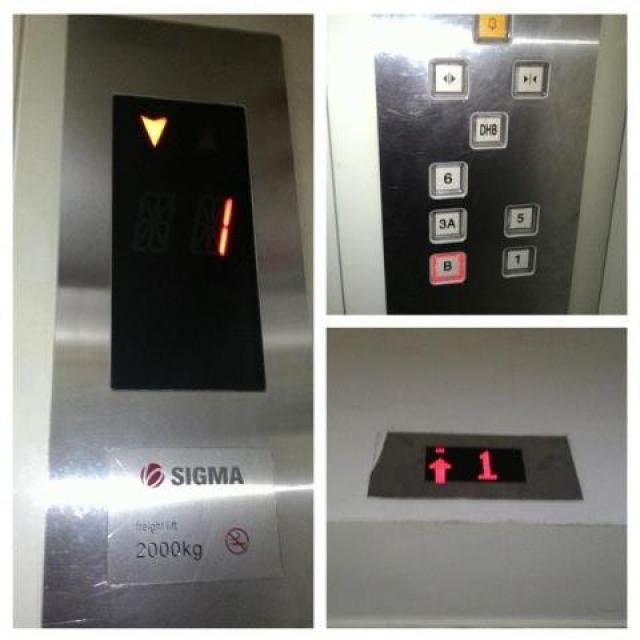1: (501, 244, 535, 277)
3A: (427, 204, 464, 243)
5: (501, 201, 539, 236)
6: (428, 159, 467, 197)
B: (427, 249, 465, 283)
DHB: (468, 109, 507, 148)
alarm: (471, 13, 513, 44)
close: (510, 57, 550, 99)
led: (110, 90, 266, 390), (422, 441, 526, 484)
open: (428, 59, 467, 100)
